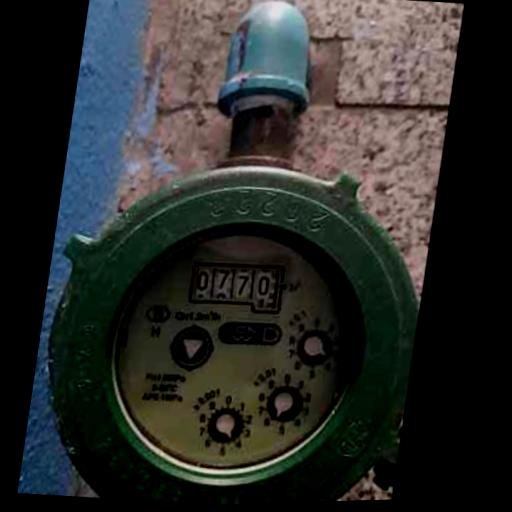0: (251, 268, 279, 312), (193, 268, 216, 301)
7: (229, 268, 258, 304), (209, 267, 234, 302)
border_water_meter_number: (186, 257, 288, 319)
